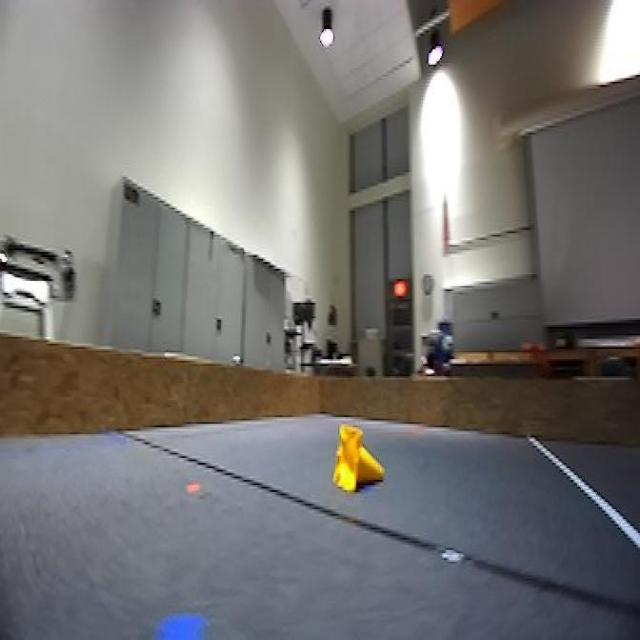frc_cone: (329, 427, 381, 499)
